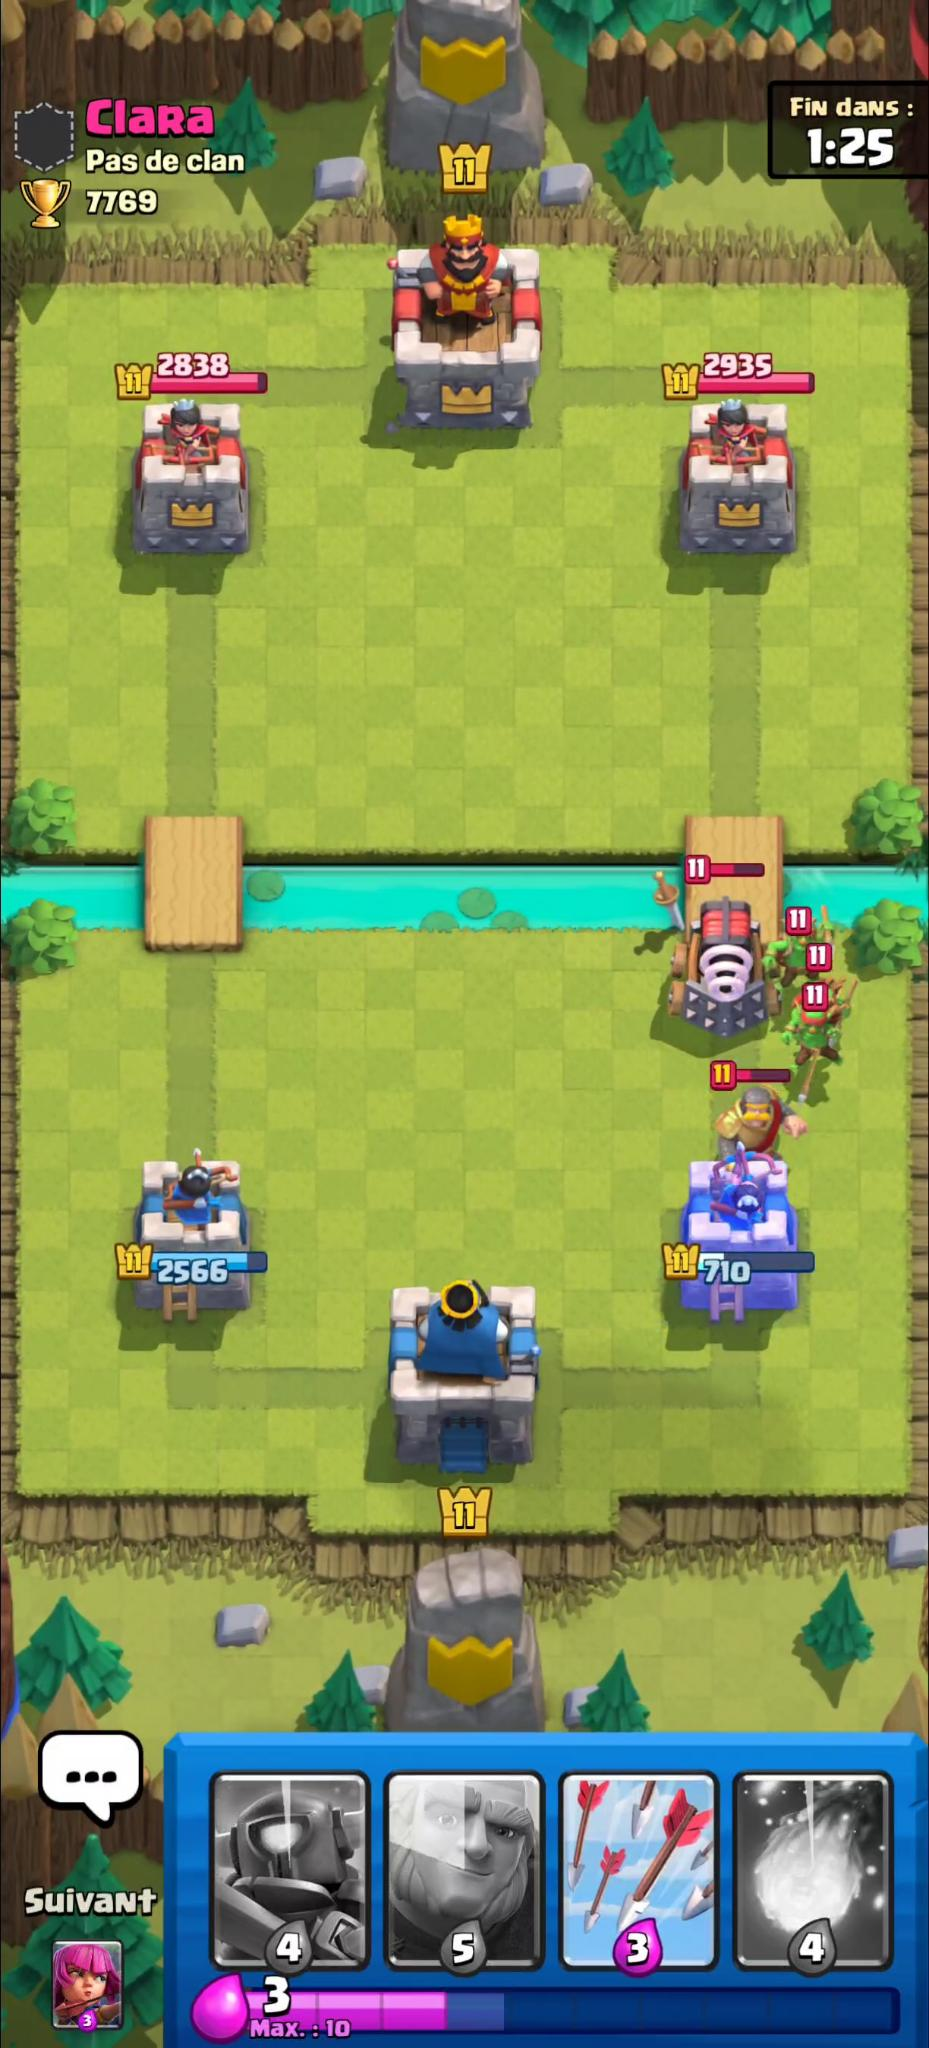chevalier: (716, 1083, 814, 1156)
gobelin_lances: (763, 918, 839, 984), (787, 1007, 851, 1072)
zappy: (673, 900, 784, 1036)
